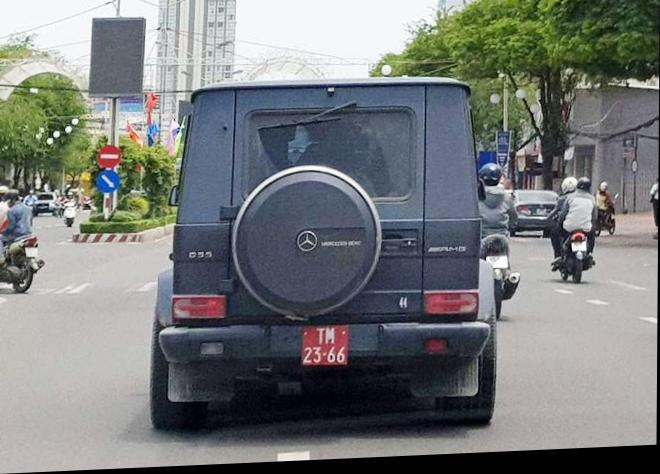License_Plate: (301, 321, 350, 368)
